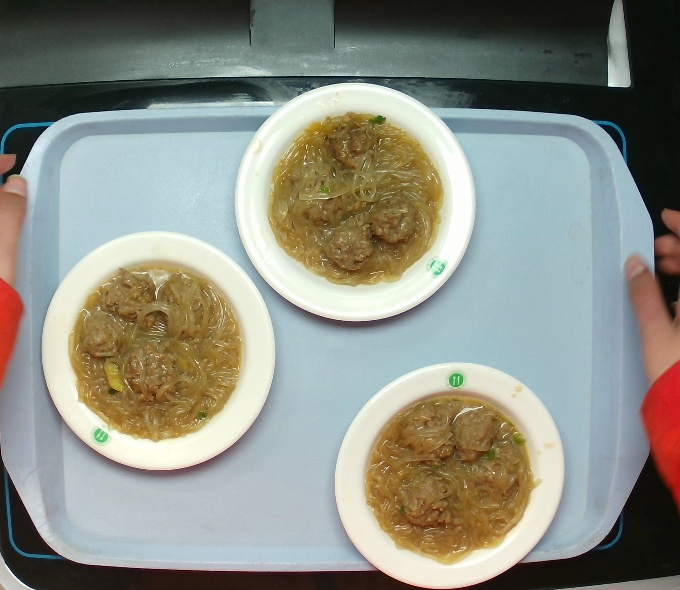wcq-FenSiNiuRouWan: (260, 107, 448, 284), (359, 384, 540, 563), (72, 258, 243, 445)
